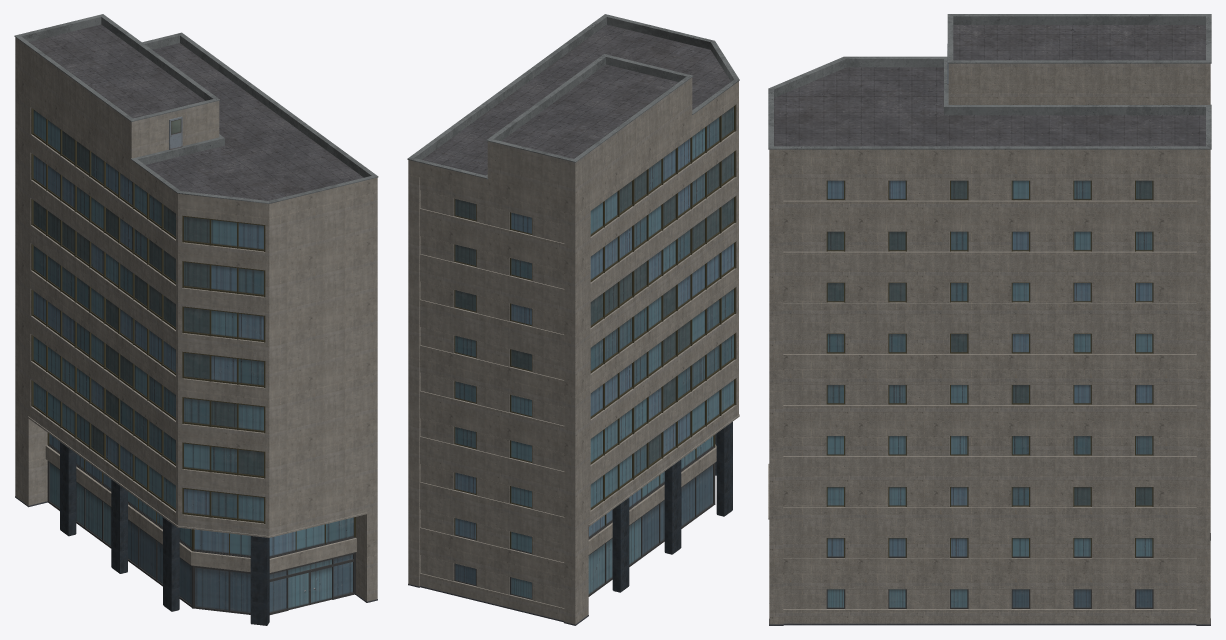
Rendered from jctBld24_12A.fbx.
3 renders of one model, left to right at view 1: azimuth 30°, elevation 25°; view 2: azimuth 150°, elevation 25°; view 3: azimuth 270°, elevation 25°, orthographic. The views are drawn at different scales.
Visible parts, largest first — view 1: jctBld24_12A_LOD0; view 2: jctBld24_12A_LOD0; view 3: jctBld24_12A_LOD0.
Boxes of the visible parts, bbox=[...] form: jctBld24_12A_LOD0: bbox=[14, 14, 378, 625]; jctBld24_12A_LOD0: bbox=[407, 14, 739, 625]; jctBld24_12A_LOD0: bbox=[768, 14, 1211, 625].
Bounding box in the file's own units: 1160 × 3055 × 2360.
